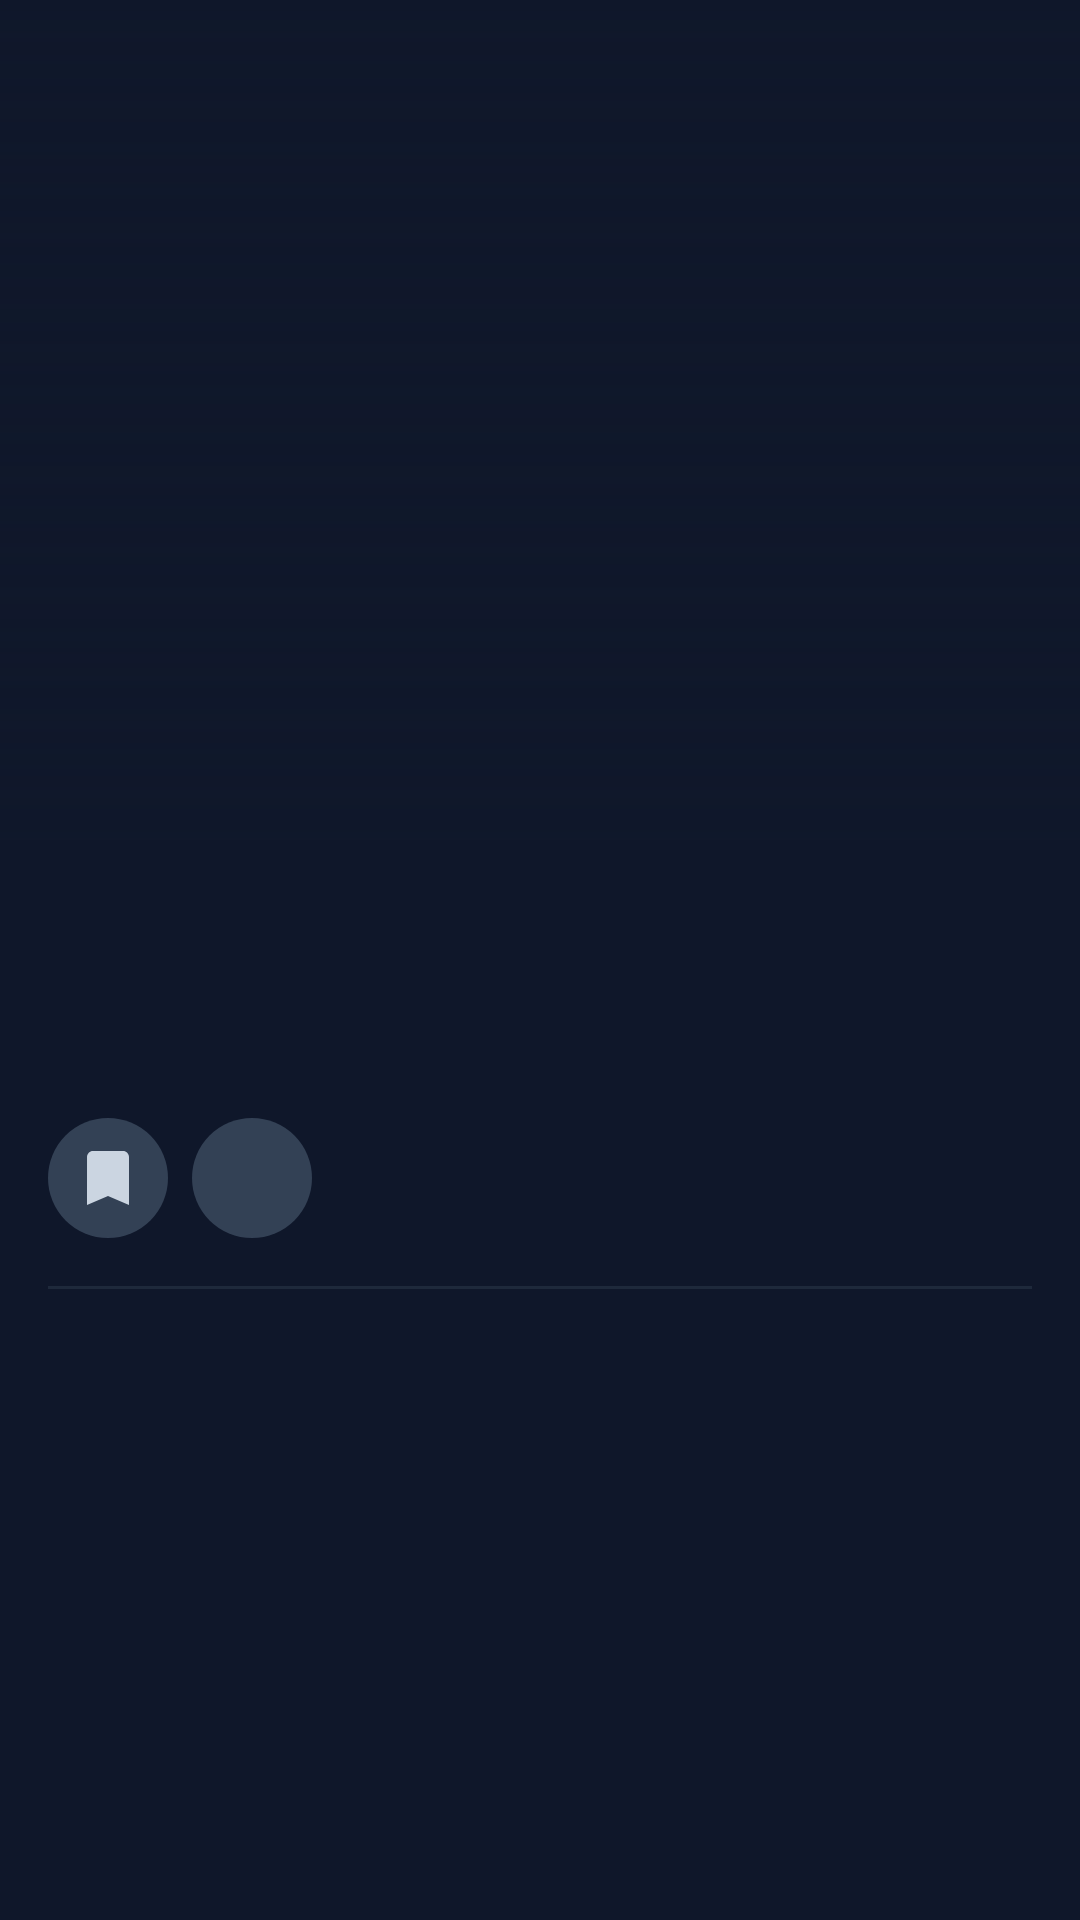

Named icons in this screenshot (1080 x 1920) and their bounding boxes, (x1, y1, x2, y2):
Bookmark: (48, 1118, 168, 1238)
